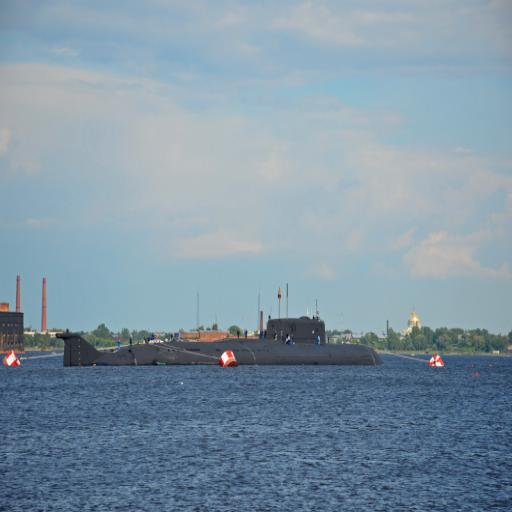submarine: (62, 297, 408, 367)
